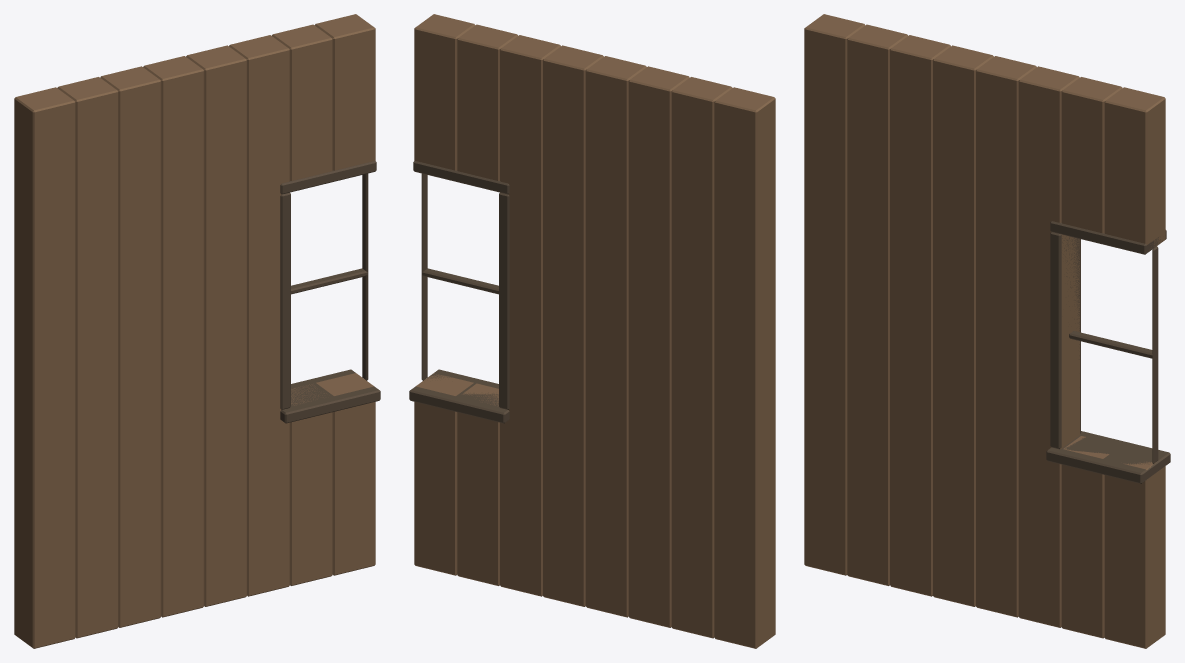
The model's file is SM_Wall_Window_Half.fbx.
3 views of the same model, side by side, from view 1: azimuth 30°, elevation 25°; view 2: azimuth 150°, elevation 25°; view 3: azimuth 330°, elevation 25° (orthographic).
Parts seen in each view (by area): view 1: SM_Wall_Window_Half; view 2: SM_Wall_Window_Half; view 3: SM_Wall_Window_Half.
Part boxes in pixels (x1=…): SM_Wall_Window_Half: x1=14, y1=14, x2=380, y2=648; SM_Wall_Window_Half: x1=409, y1=14, x2=775, y2=648; SM_Wall_Window_Half: x1=804, y1=14, x2=1170, y2=648.
Size of the model in its own units: 2 by 3 by 0.3.
